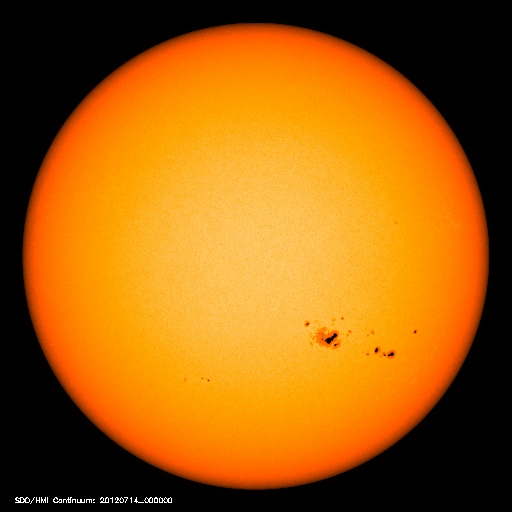sunspot: (297, 309, 420, 365)
